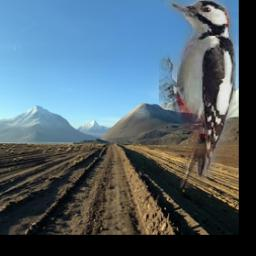Woodpecker: (159, 0, 236, 188)
